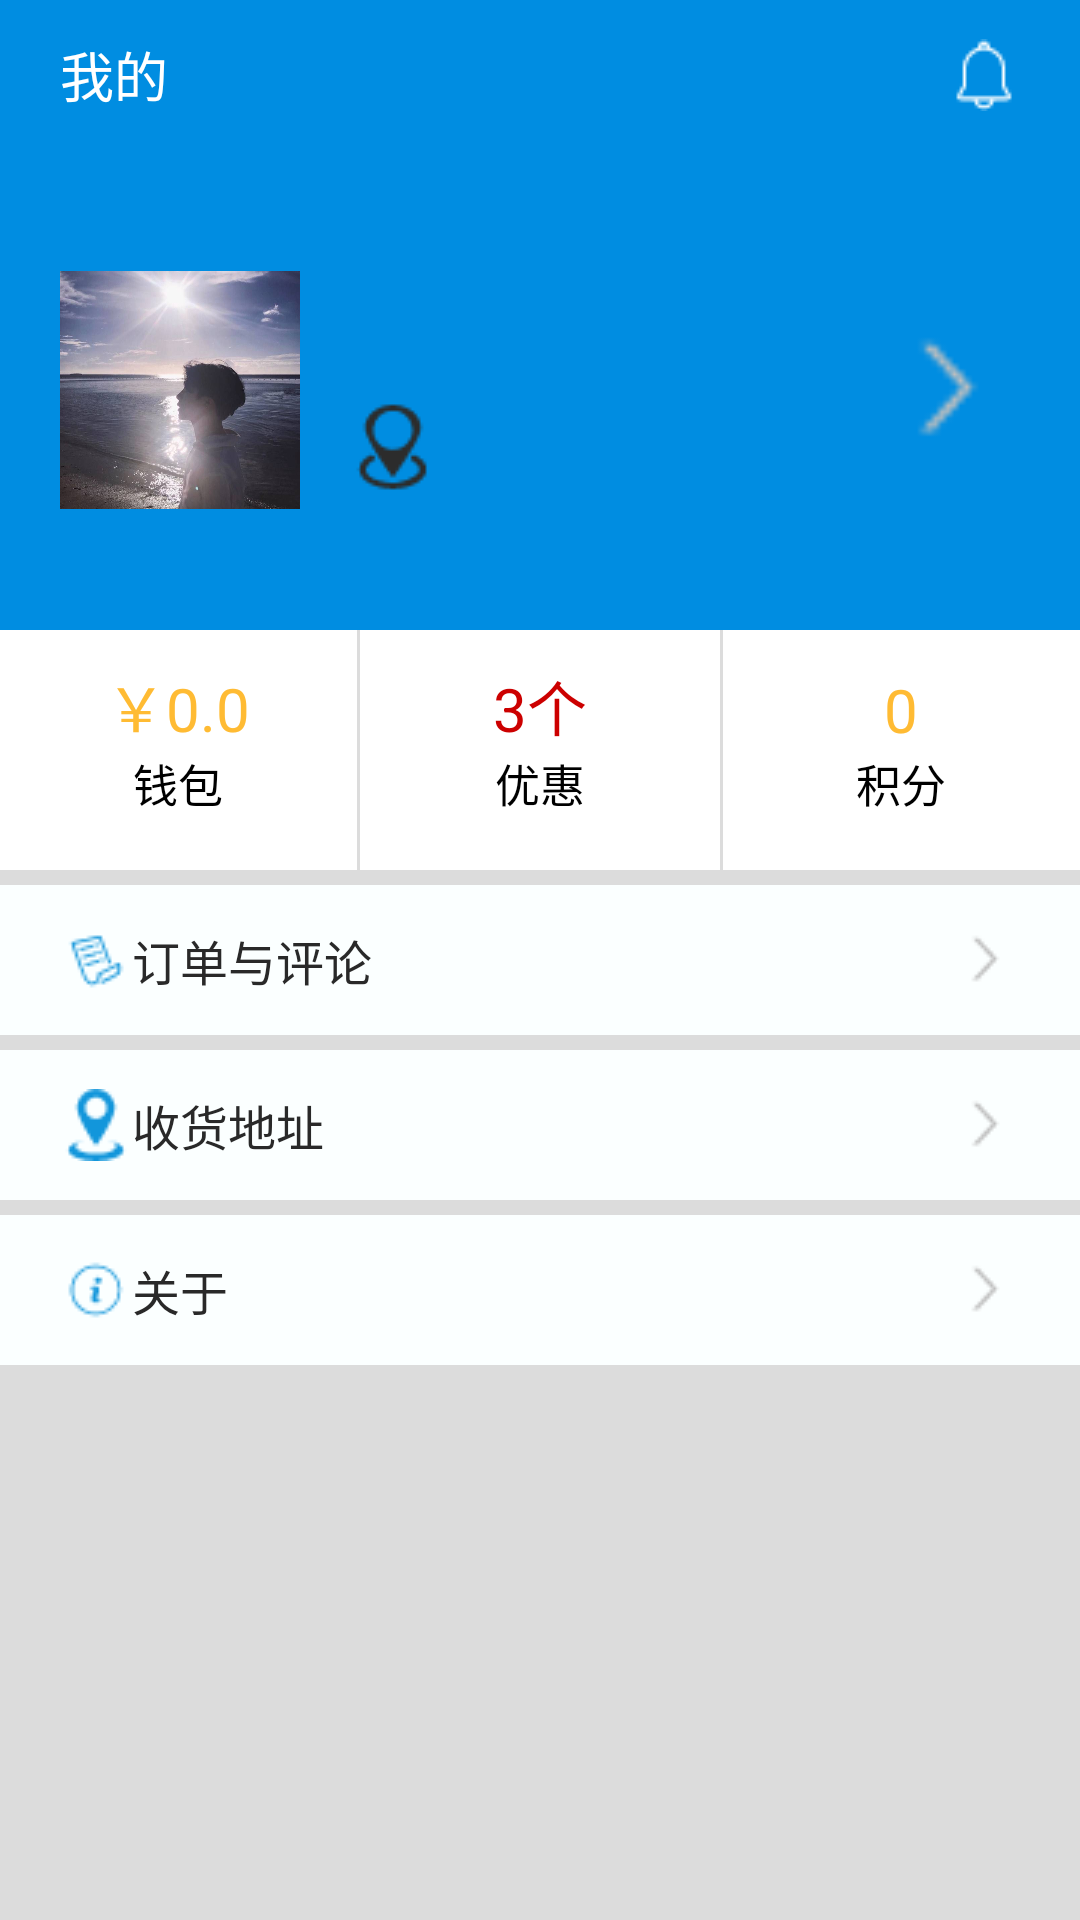

Locate icon controls on the screen. Image size 1080 x 1920, boxes as (x1, y1, x2, y2).
details: (919, 340, 976, 435)
